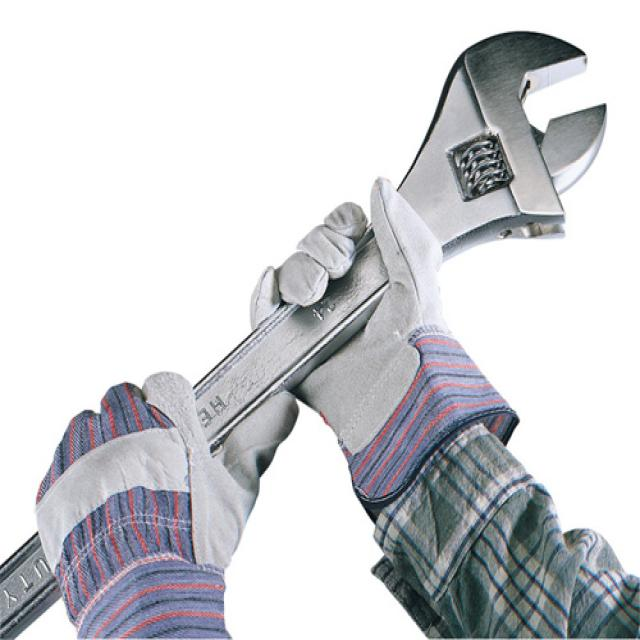wrench: (130, 24, 640, 300)
